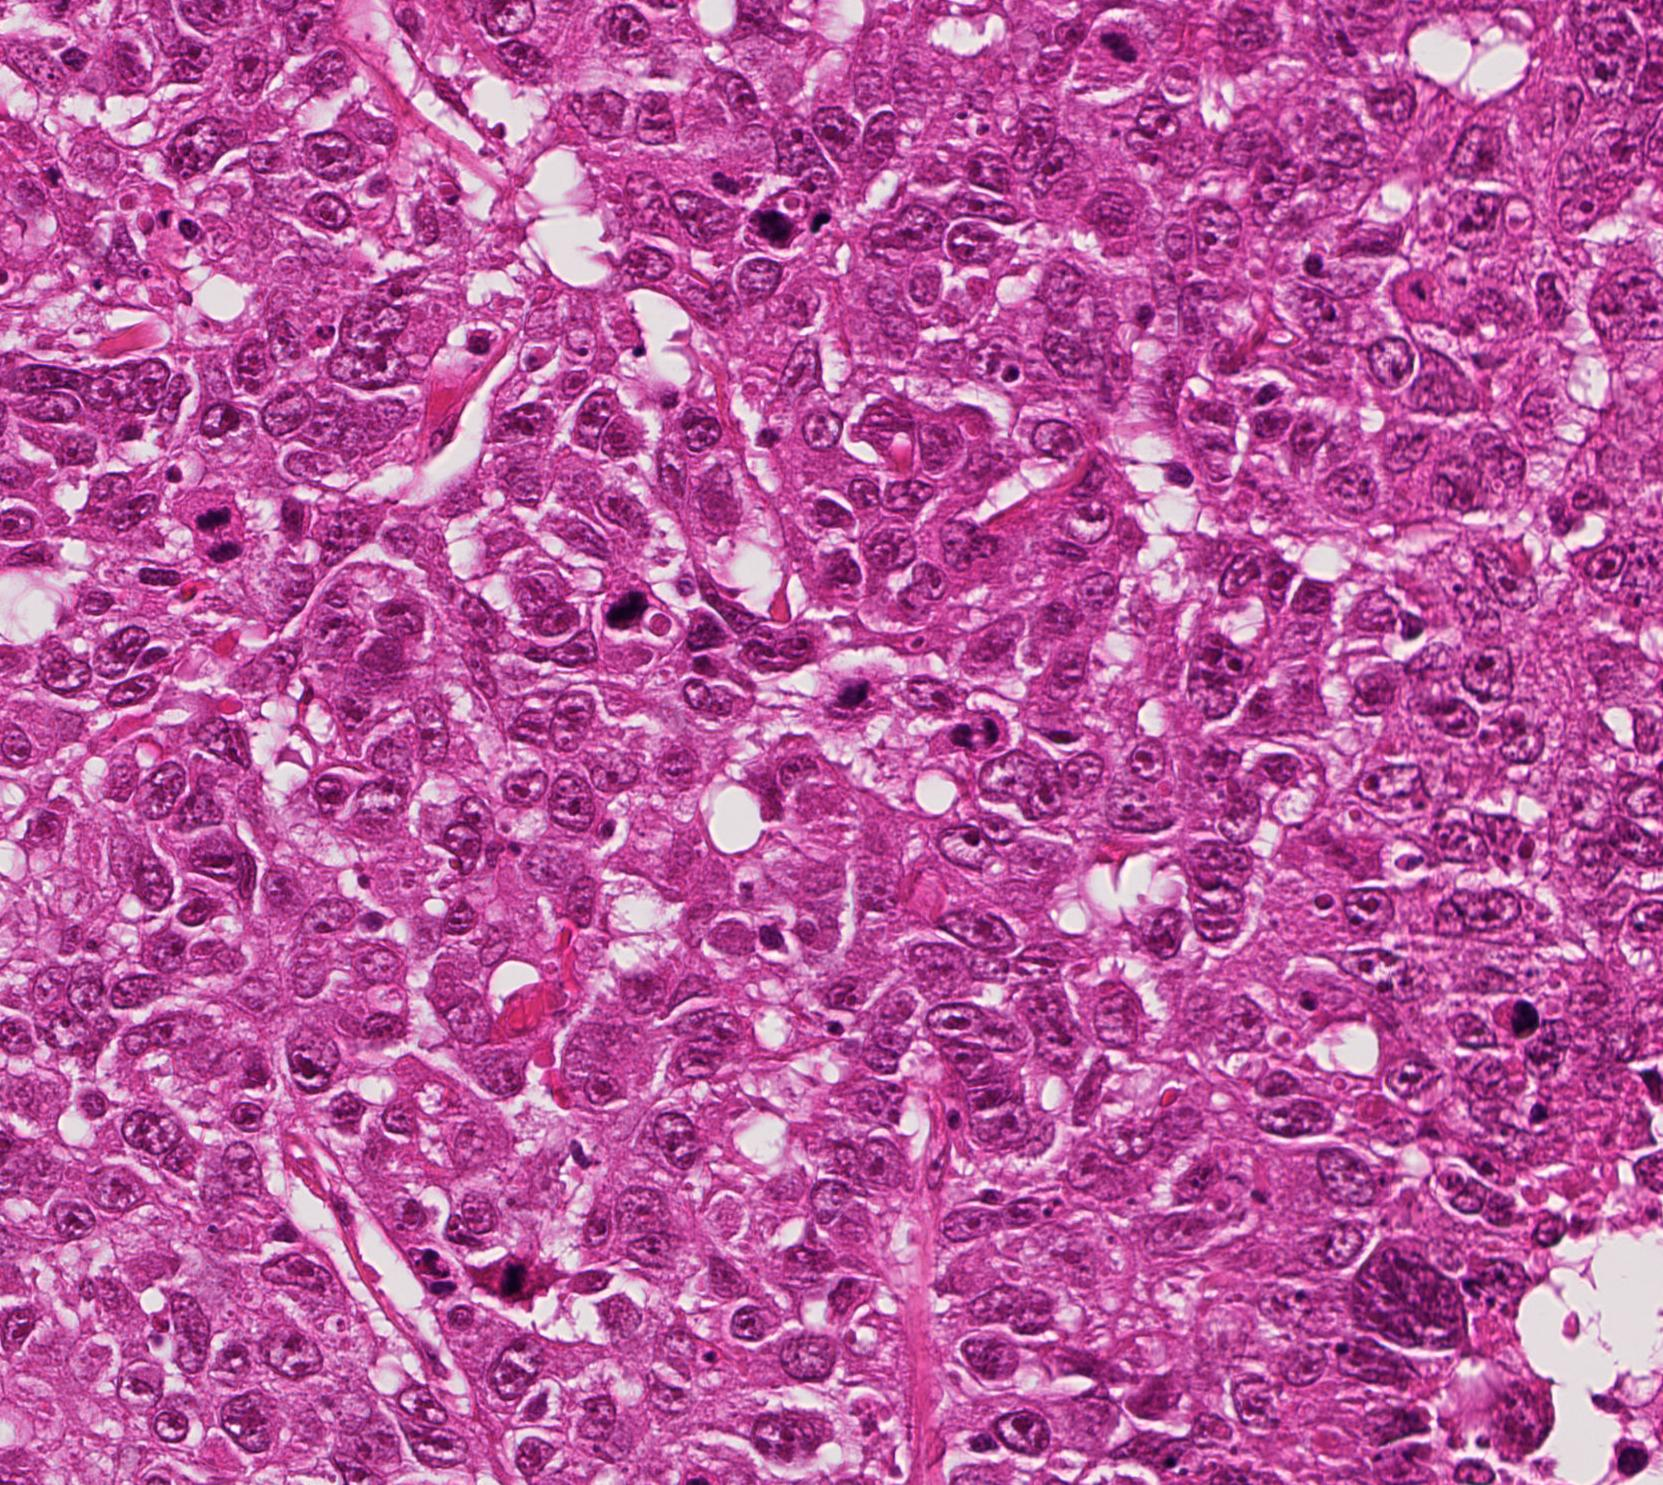mitosis: (1094, 22, 1154, 82), (191, 505, 249, 563)
